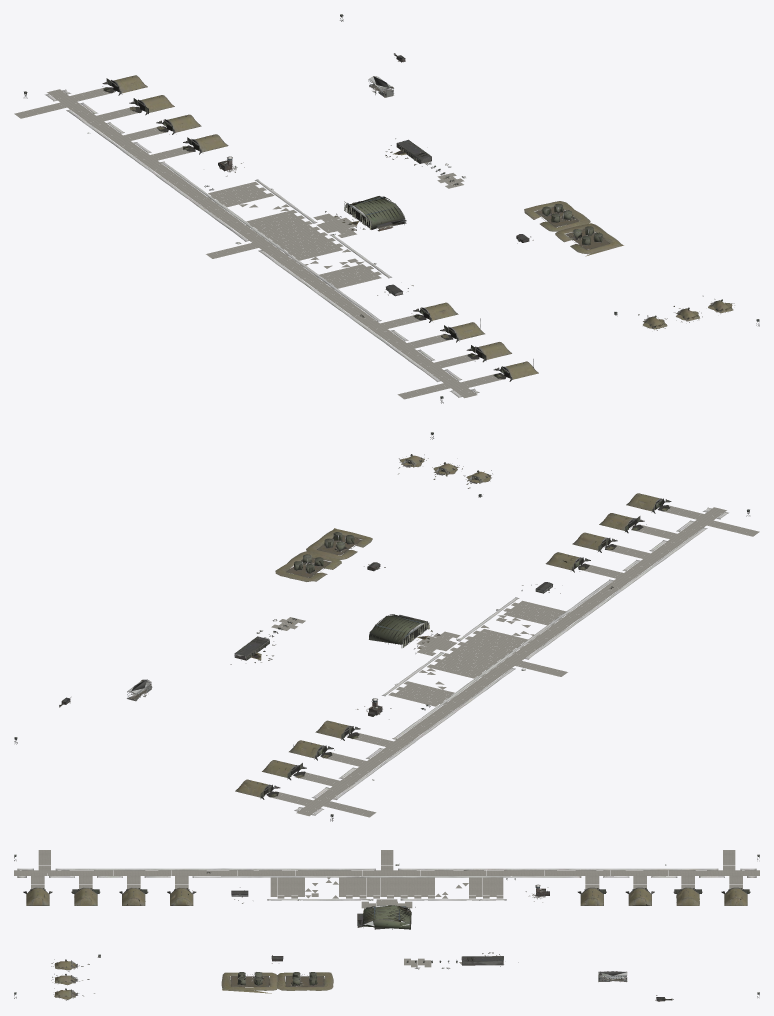
Rendered from site_air_w_lo.glb.
3 renders of one model, top to bottom at view 1: azimuth 30°, elevation 25°; view 2: azimuth 150°, elevation 25°; view 3: azimuth 270°, elevation 25°, orthographic. The views are drawn at different scales.
Parts seen in each view (by area): view 1: deco|tile_conc, deco|A_A, b_tech|A_A, b_gsm2|A_A, b_gsm1|A_A; view 2: deco|tile_conc, deco|A_A, b_tech|A_A, b_gsm1|A_A, b_gsm2|A_A; view 3: deco|tile_conc, deco|A_A, b_tech|A_A, b_gsm1|A_A, b_gsm2|A_A, b_box_sp|A_A, b_has7|A_A, b_has1|A_A, b_has2|A_A, b_has6|A_A, b_has3|A_A, b_gsm2_ruin|A_B (+3 smaller).
Part boxes in pixels (x1,y1,x2,y2): deco|tile_conc: (14, 87, 502, 399); deco|A_A: (24, 14, 759, 403); b_tech|A_A: (344, 196, 406, 229); b_gsm2|A_A: (555, 223, 621, 254); b_gsm1|A_A: (524, 201, 590, 231); deco|tile_conc: (268, 505, 759, 817); deco|A_A: (14, 432, 749, 821); b_tech|A_A: (369, 614, 429, 647); b_gsm1|A_A: (275, 551, 341, 581); b_gsm2|A_A: (306, 529, 372, 559); deco|tile_conc: (14, 850, 759, 967); deco|A_A: (14, 854, 759, 998); b_tech|A_A: (357, 905, 411, 929); b_gsm1|A_A: (277, 972, 333, 990); b_gsm2|A_A: (221, 972, 277, 990); b_box_sp|A_A: (461, 956, 503, 965); b_has7|A_A: (71, 887, 100, 905); b_has1|A_A: (578, 887, 606, 905); b_has2|A_A: (625, 887, 654, 905); b_has6|A_A: (119, 887, 148, 905); b_has3|A_A: (673, 887, 702, 905); b_gsm2_ruin|A_B: (222, 972, 271, 993).
Bounding box in the file's own units: 525 × 28.57 × 1090.
56 materials, 44 textured.
